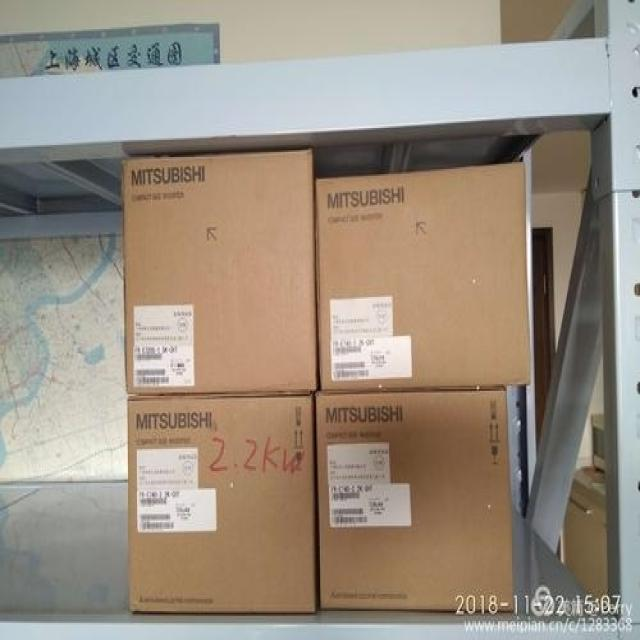box: (314, 164, 531, 393), (123, 148, 317, 394), (317, 386, 515, 609), (127, 394, 317, 613)
